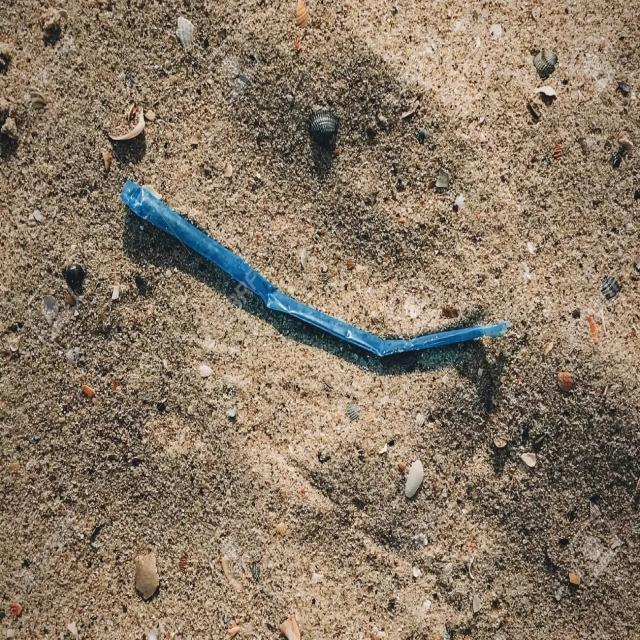Straw: (122, 168, 514, 365)
